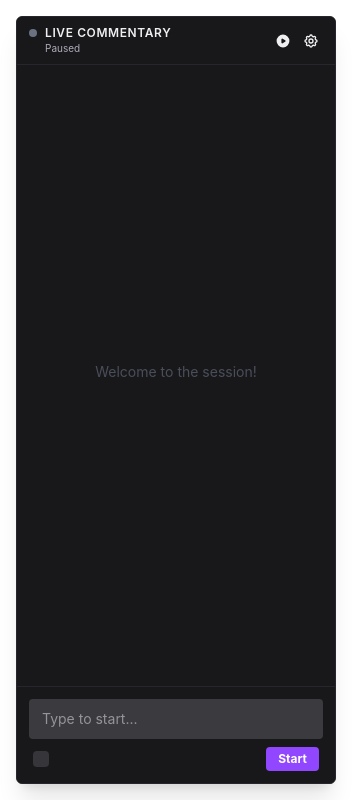
Test: ChatWidget › opens settings panel when settings icon is clicked
Expected: the text "Settings" is not shown
Click the button named "Open settings" at point(311, 40), box [299,28,323,52]
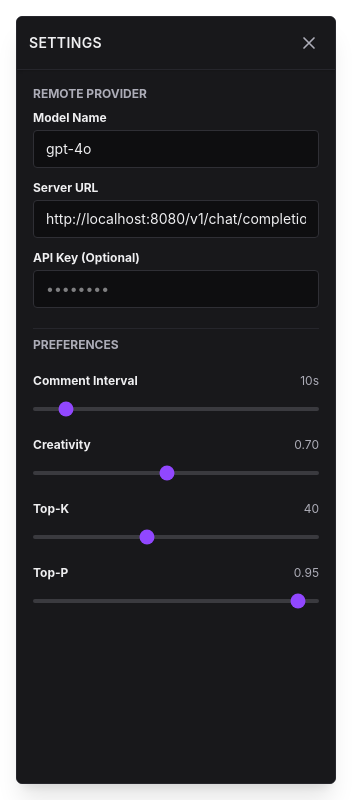
Expected: the heading "Settings" is shown, [29,33,102,53]
